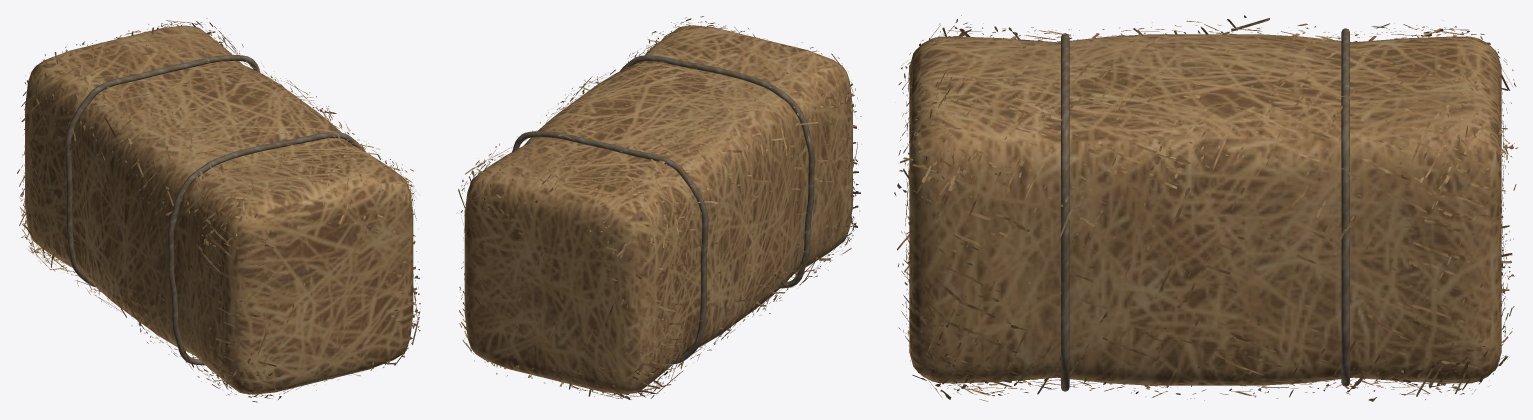
The model's file is cover_haybale.glb.
The picture shows the model from 3 angles, left to right: view 1: azimuth 30°, elevation 25°; view 2: azimuth 150°, elevation 25°; view 3: azimuth 270°, elevation 25°; orthographic projection. The views are drawn at different scales.
Parts seen in each view (by area): view 1: cover_haybale; view 2: cover_haybale; view 3: cover_haybale.
Part boxes in pixels (left/top/right/bottom): cover_haybale: left=17, top=18, right=420, bottom=402; cover_haybale: left=457, top=16, right=861, bottom=399; cover_haybale: left=894, top=15, right=1518, bottom=401.
Size of the model in its own units: 1.31 by 1.3 by 2.39.
Materials: 1 (1 with a texture image).
